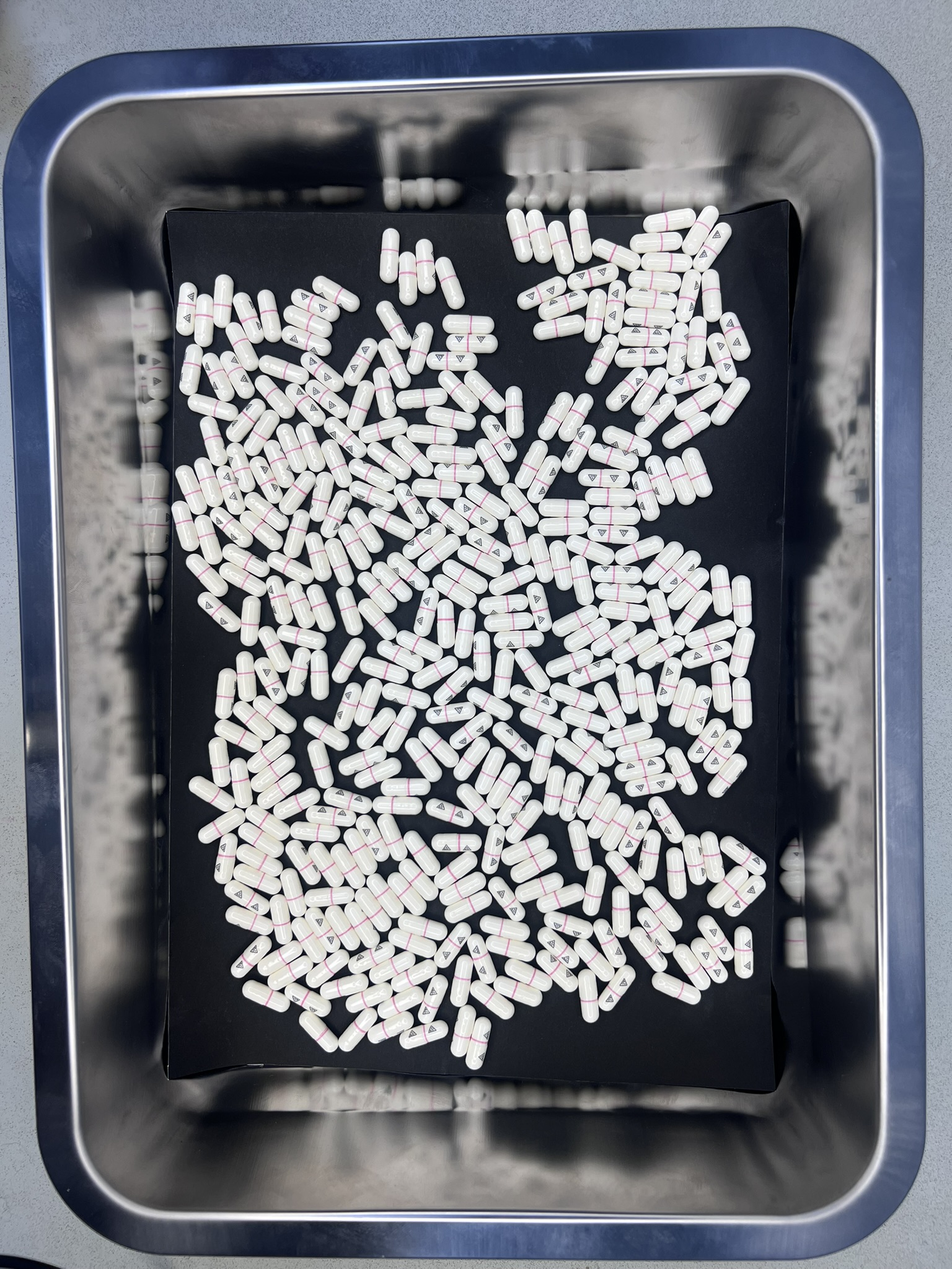Capsule: (691, 221, 733, 274), (606, 366, 650, 415), (710, 378, 751, 430), (681, 205, 721, 258), (661, 410, 713, 450), (464, 368, 508, 415), (666, 565, 710, 611), (630, 367, 670, 417), (673, 383, 724, 422), (706, 865, 751, 909), (186, 555, 229, 601), (658, 548, 701, 594), (404, 736, 446, 783), (642, 885, 683, 933), (719, 835, 767, 876), (471, 980, 520, 1020), (197, 805, 246, 845), (536, 391, 574, 442), (535, 948, 579, 992), (284, 383, 327, 428), (538, 926, 583, 969), (254, 374, 296, 420), (451, 735, 492, 782), (433, 921, 473, 969), (313, 275, 363, 313), (305, 376, 348, 420), (391, 435, 435, 478), (438, 370, 483, 412), (300, 351, 345, 393), (635, 393, 677, 438), (323, 417, 368, 459), (642, 541, 684, 586), (238, 510, 284, 551), (246, 733, 292, 774), (387, 871, 428, 917), (365, 441, 412, 481), (401, 521, 448, 561), (673, 944, 712, 992), (249, 753, 297, 792), (375, 300, 413, 349), (691, 936, 729, 985), (245, 406, 282, 456), (648, 794, 685, 844), (724, 874, 767, 917), (197, 590, 241, 632), (209, 507, 253, 549), (604, 850, 645, 895), (356, 706, 397, 751), (398, 858, 439, 903), (226, 398, 266, 444), (703, 728, 743, 774), (277, 470, 317, 516), (366, 872, 406, 918), (474, 436, 510, 487), (675, 590, 714, 637), (392, 482, 431, 529), (347, 507, 386, 554), (483, 761, 522, 808), (342, 901, 381, 948), (481, 415, 519, 463), (501, 480, 539, 528), (584, 792, 622, 840), (463, 483, 512, 520), (253, 656, 290, 705), (357, 571, 399, 614), (492, 721, 535, 763), (230, 936, 273, 978), (573, 938, 614, 982), (232, 700, 276, 741), (517, 275, 567, 311), (282, 982, 332, 1018), (245, 491, 290, 531), (571, 728, 616, 768), (304, 949, 349, 989), (251, 695, 297, 734), (681, 447, 713, 503), (696, 914, 734, 961), (256, 772, 303, 810), (402, 830, 440, 877), (354, 887, 392, 934), (225, 321, 260, 372), (637, 634, 685, 671), (261, 436, 295, 488), (342, 338, 378, 387), (561, 424, 597, 473), (371, 561, 414, 602), (339, 1007, 379, 1051), (417, 532, 461, 572), (687, 718, 726, 763), (637, 908, 676, 953), (221, 350, 256, 400), (527, 454, 562, 504), (367, 507, 417, 542), (509, 848, 559, 883), (710, 753, 748, 799), (564, 616, 611, 653), (285, 839, 322, 886), (257, 939, 304, 976), (538, 287, 589, 321), (290, 288, 341, 322), (600, 962, 636, 1010), (338, 523, 374, 571), (599, 802, 635, 850), (617, 810, 653, 858), (418, 726, 459, 768), (298, 1009, 338, 1052), (387, 551, 430, 591), (456, 783, 496, 826), (426, 497, 470, 536), (555, 738, 599, 777), (434, 852, 478, 891), (499, 833, 551, 866), (665, 747, 700, 796), (453, 497, 499, 534), (612, 627, 658, 664), (506, 799, 543, 845), (308, 841, 345, 887), (325, 904, 362, 950), (291, 917, 328, 963), (514, 440, 548, 490), (233, 863, 283, 897), (435, 257, 467, 310), (259, 353, 312, 385), (465, 527, 512, 563), (303, 716, 350, 752), (223, 879, 270, 915), (631, 926, 667, 973), (651, 972, 702, 1005), (586, 332, 619, 383), (223, 441, 256, 492), (475, 745, 508, 796), (434, 665, 475, 706), (222, 543, 270, 578), (590, 621, 638, 656), (368, 950, 416, 985), (358, 598, 397, 641), (644, 455, 675, 509), (559, 393, 593, 442), (319, 439, 353, 488), (272, 787, 321, 821), (348, 941, 397, 975), (449, 712, 494, 749), (602, 426, 654, 458), (515, 647, 551, 693), (497, 781, 533, 827), (245, 805, 291, 841), (305, 907, 341, 953), (378, 338, 411, 388), (203, 352, 236, 402), (442, 559, 489, 594), (467, 687, 514, 722), (332, 638, 367, 685), (237, 823, 284, 858), (267, 955, 314, 990), (232, 291, 263, 344), (188, 775, 231, 813), (491, 976, 542, 1008), (665, 455, 697, 506), (684, 638, 732, 672), (348, 480, 399, 512), (383, 705, 417, 753), (337, 744, 388, 776), (356, 814, 390, 862), (343, 827, 377, 875), (664, 366, 718, 396), (284, 306, 333, 339), (368, 1011, 417, 1044), (266, 551, 315, 584), (250, 455, 283, 504), (488, 564, 537, 597), (224, 905, 276, 936), (320, 489, 352, 539), (615, 534, 665, 566), (567, 656, 617, 688), (595, 918, 627, 968), (552, 604, 599, 638), (412, 655, 459, 689), (577, 772, 611, 819), (631, 470, 661, 523), (349, 458, 397, 491), (396, 629, 444, 662), (377, 640, 425, 673), (214, 719, 262, 752), (354, 757, 402, 790), (444, 890, 492, 923), (489, 877, 525, 921), (220, 563, 266, 597), (686, 620, 738, 650), (467, 933, 497, 985), (241, 980, 288, 1013), (458, 545, 505, 578), (333, 843, 366, 890), (439, 873, 486, 906), (391, 959, 438, 992), (282, 326, 332, 357), (345, 381, 376, 431), (707, 330, 738, 380), (545, 648, 595, 679), (519, 707, 569, 738), (515, 872, 565, 903), (547, 220, 575, 275), (525, 209, 553, 264), (433, 573, 477, 608), (595, 681, 627, 729), (568, 263, 619, 293), (193, 457, 223, 508), (277, 423, 307, 474), (296, 422, 326, 473), (216, 464, 246, 515), (418, 974, 448, 1025), (174, 464, 205, 513), (259, 627, 290, 676), (388, 928, 437, 959), (405, 321, 433, 375), (200, 417, 228, 471), (684, 684, 713, 736), (593, 239, 640, 271), (719, 312, 751, 359), (568, 535, 615, 567), (237, 844, 284, 876), (486, 935, 536, 965), (377, 812, 407, 862), (544, 911, 594, 941), (346, 982, 394, 1013), (400, 1018, 448, 1049), (510, 684, 558, 715), (372, 366, 399, 421), (675, 269, 702, 324), (527, 535, 555, 588), (588, 444, 641, 472), (188, 393, 239, 422), (319, 972, 370, 1001), (411, 587, 440, 638), (668, 677, 697, 728), (602, 721, 653, 750), (505, 958, 551, 990), (333, 682, 363, 731), (729, 628, 756, 682), (306, 584, 337, 631), (646, 589, 674, 641), (335, 586, 363, 638), (479, 823, 507, 875), (426, 798, 474, 828), (536, 882, 584, 912), (643, 207, 696, 234), (212, 833, 239, 886), (549, 540, 575, 595), (358, 416, 409, 444), (266, 575, 294, 626), (381, 682, 432, 710), (397, 913, 448, 941), (325, 538, 354, 587), (567, 820, 594, 872), (505, 208, 532, 260), (534, 314, 586, 341), (257, 289, 283, 343), (569, 550, 594, 606), (283, 509, 311, 559), (655, 657, 683, 707), (359, 656, 409, 684), (323, 786, 373, 814), (550, 683, 598, 712), (384, 985, 426, 1018), (424, 405, 477, 431), (635, 672, 661, 725), (480, 915, 531, 942), (558, 770, 585, 821), (583, 288, 608, 343), (171, 501, 199, 550), (354, 677, 382, 726), (207, 737, 233, 789), (625, 772, 677, 798), (309, 471, 335, 523), (527, 581, 553, 633), (286, 646, 312, 698), (195, 514, 222, 564), (528, 733, 555, 783), (280, 868, 307, 918), (637, 828, 662, 882), (562, 706, 610, 734), (285, 581, 314, 627), (615, 737, 666, 763), (451, 1006, 476, 1059), (306, 534, 333, 583), (503, 516, 530, 565), (213, 274, 235, 334), (541, 764, 566, 816), (308, 739, 334, 789), (213, 668, 238, 720), (276, 625, 328, 650), (179, 343, 203, 397), (685, 314, 708, 370), (614, 756, 665, 781), (467, 1017, 491, 1070), (701, 831, 725, 884), (598, 599, 651, 623), (450, 954, 473, 1009), (569, 209, 592, 264), (175, 282, 198, 337), (700, 268, 723, 323), (615, 664, 640, 714), (604, 279, 627, 333), (666, 846, 689, 900), (638, 252, 694, 274), (406, 423, 459, 446), (710, 661, 732, 716), (627, 270, 682, 292), (667, 319, 689, 374), (582, 865, 606, 915), (379, 228, 400, 285), (229, 757, 252, 809), (454, 607, 477, 659), (629, 231, 681, 254), (577, 970, 599, 1024), (594, 582, 648, 604), (415, 239, 436, 295), (395, 388, 446, 411), (492, 648, 515, 699), (270, 894, 293, 945), (684, 834, 707, 885), (309, 648, 331, 701), (731, 574, 753, 627), (289, 821, 341, 843), (431, 832, 483, 854), (482, 611, 534, 633), (236, 650, 258, 702), (426, 443, 478, 465), (194, 294, 215, 348), (584, 487, 638, 508), (733, 925, 754, 979), (731, 679, 753, 730), (426, 702, 477, 724), (537, 517, 590, 538), (625, 288, 678, 309), (589, 506, 642, 527), (435, 597, 456, 650), (303, 886, 356, 907), (239, 596, 261, 646), (412, 478, 462, 500), (586, 525, 641, 545), (578, 468, 630, 489), (590, 565, 644, 585), (444, 314, 495, 335), (373, 795, 424, 816), (429, 350, 480, 371), (711, 565, 732, 616), (434, 462, 485, 483), (504, 385, 524, 438), (446, 333, 499, 353), (474, 630, 494, 683), (614, 347, 664, 368), (306, 805, 356, 826), (619, 326, 669, 347), (625, 308, 675, 329), (479, 594, 529, 615), (398, 252, 418, 304), (611, 886, 631, 937), (493, 630, 546, 649), (380, 778, 432, 797), (539, 499, 591, 518)
